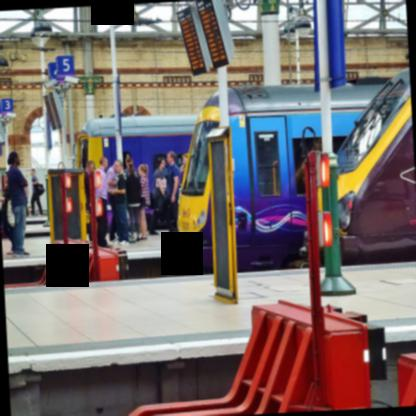backpack: (6, 199, 15, 225), (33, 183, 45, 196)
